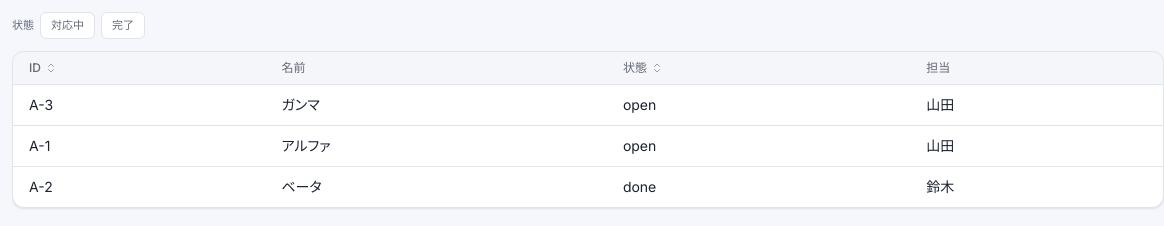
Test case: DataTable (Phase 3) › pinTop: 固定行が先頭、filter とも両立
What coordinates should you click on to do the following:
click the button "対応中"
I would click on:
 (68, 25)
Its box is [40, 12, 95, 38].
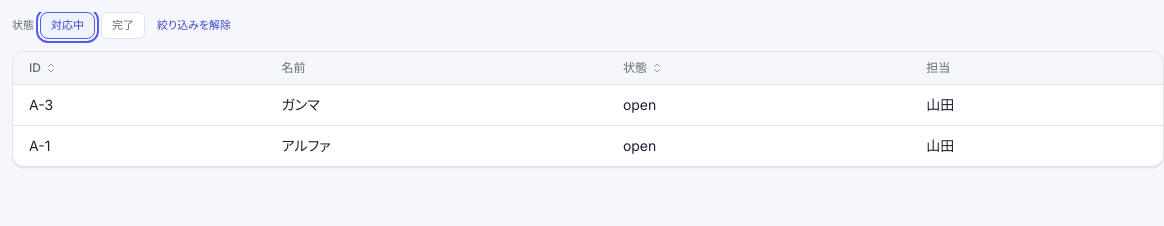
Expected: the link "A-3" is shown, [29, 96, 53, 112]
Now the link "A-2" no longer shows "A-2"
